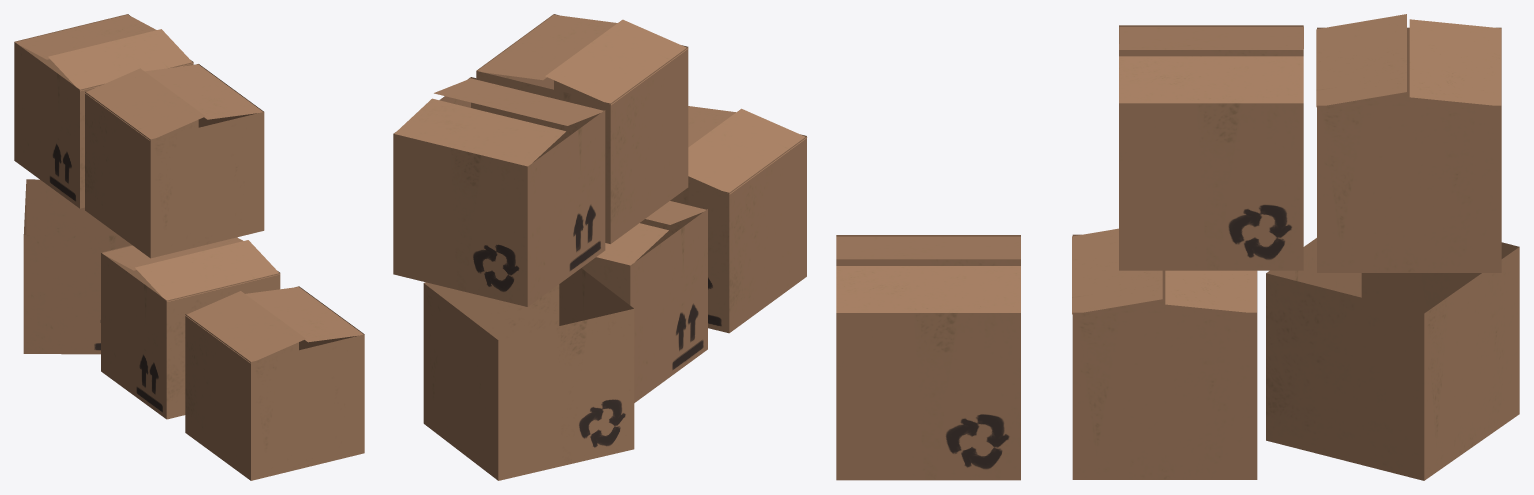
Rendered from Kisten_Regal.fbx.
The picture shows the model from 3 angles, left to right: view 1: azimuth 30°, elevation 25°; view 2: azimuth 150°, elevation 25°; view 3: azimuth 270°, elevation 25°; orthographic projection. The views are drawn at different scales.
Parts seen in each view (by area): view 1: Cube; view 2: Cube; view 3: Cube.
Boxes of the visible parts, x1=… form: Cube: x1=14, y1=14, x2=364, y2=480; Cube: x1=393, y1=14, x2=807, y2=480; Cube: x1=836, y1=14, x2=1519, y2=480.
Size of the model in its own units: 275 by 467 by 740.
